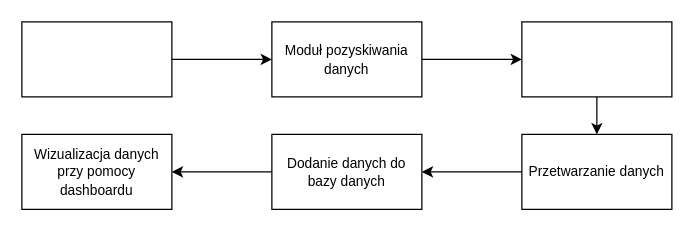
This 694x231 diagram has some shape labels left out. The centre of each missing label's shape, as x and y in pixels:
"Archiwizacja danych" goes at (x=596, y=59).
"NOAA SWPC API" goes at (x=96, y=59).
